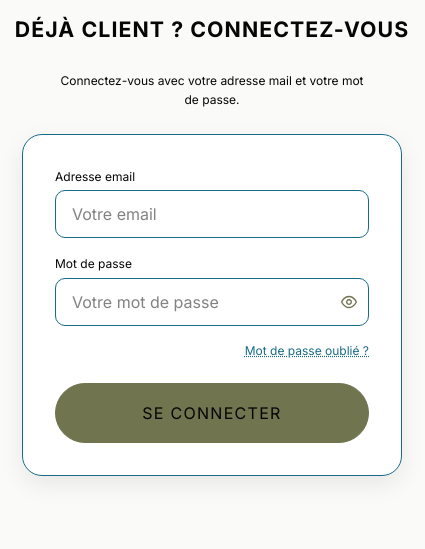
it: LoginForm › shows only the password error when the email is filled in
Step 1. Type "test@example.com" into the field with placeholder "Votre email" → [212, 214], box x1=55 y1=190 x2=369 y2=238
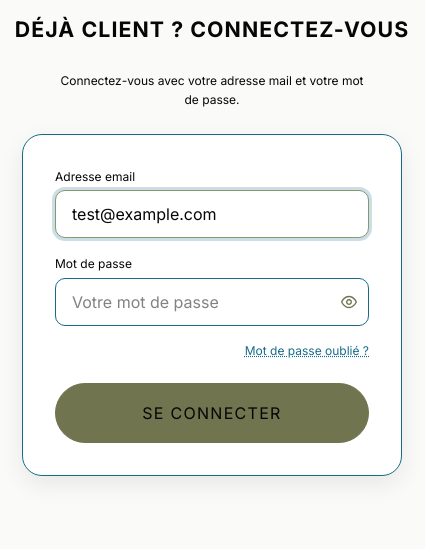
Step 2. Click the button "Se connecter" → [212, 413], box x1=55 y1=383 x2=369 y2=443
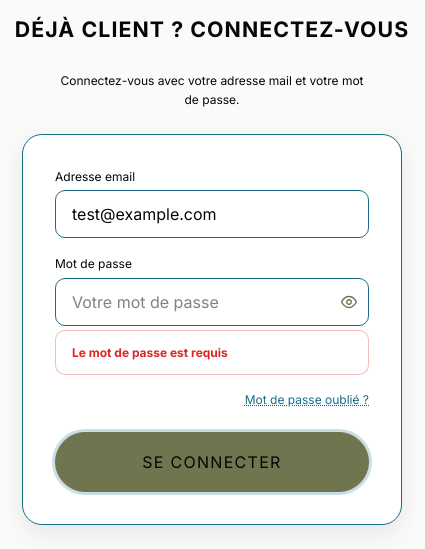
Check: the text "Le mot de passe est requis" is shown, box x1=55 y1=330 x2=369 y2=375
